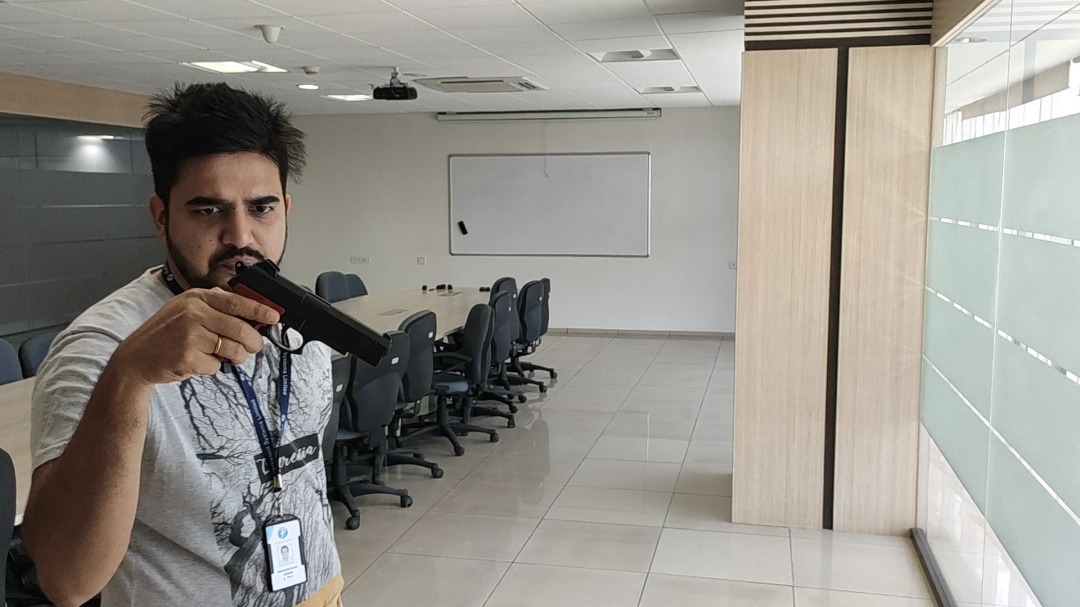gun: (225, 257, 397, 371)
